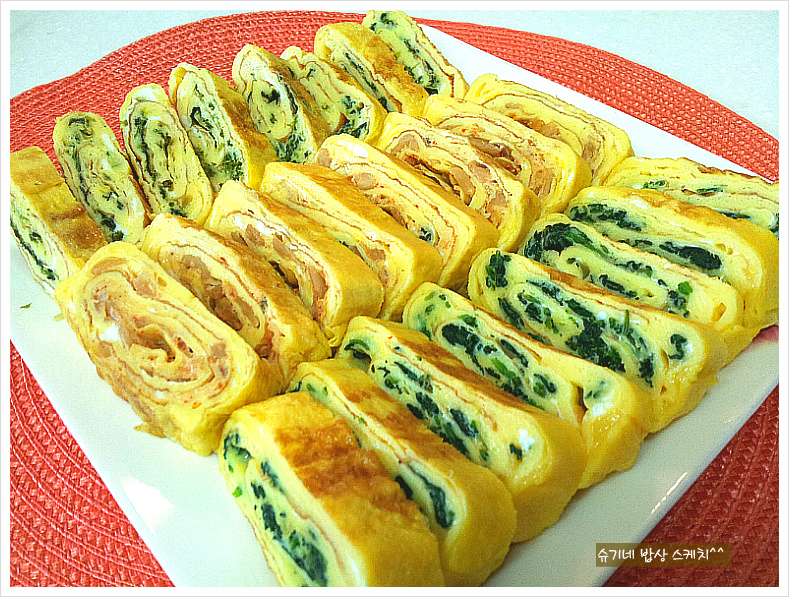gyelanmal-i: (16, 9, 777, 583)
